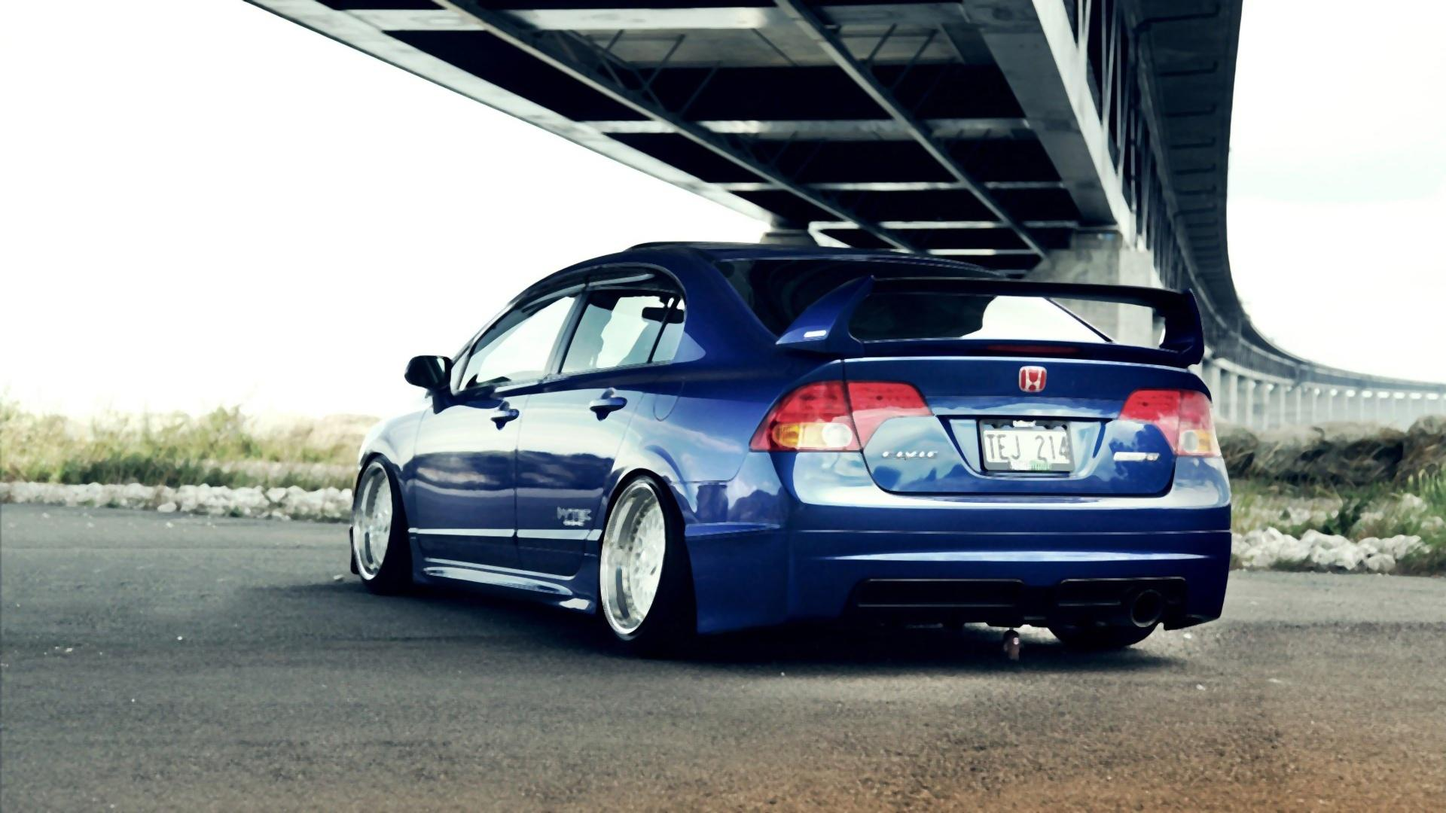Car boot: (837, 333, 1190, 502)
Fender - -F-L-: (355, 388, 433, 589)
Fender - -R-L-: (589, 275, 792, 596)
Passenger-s door - -F-L-: (407, 235, 589, 607)
Passenger-s door - -R-L-: (496, 241, 702, 602)
Rear bumper: (669, 449, 1240, 645)
Rear light - -L-: (741, 378, 938, 455)
Rear light - -R-: (1115, 383, 1223, 459)
Side bumper - -L-: (398, 533, 609, 629)
Side mirror - -L-: (401, 354, 460, 409)
